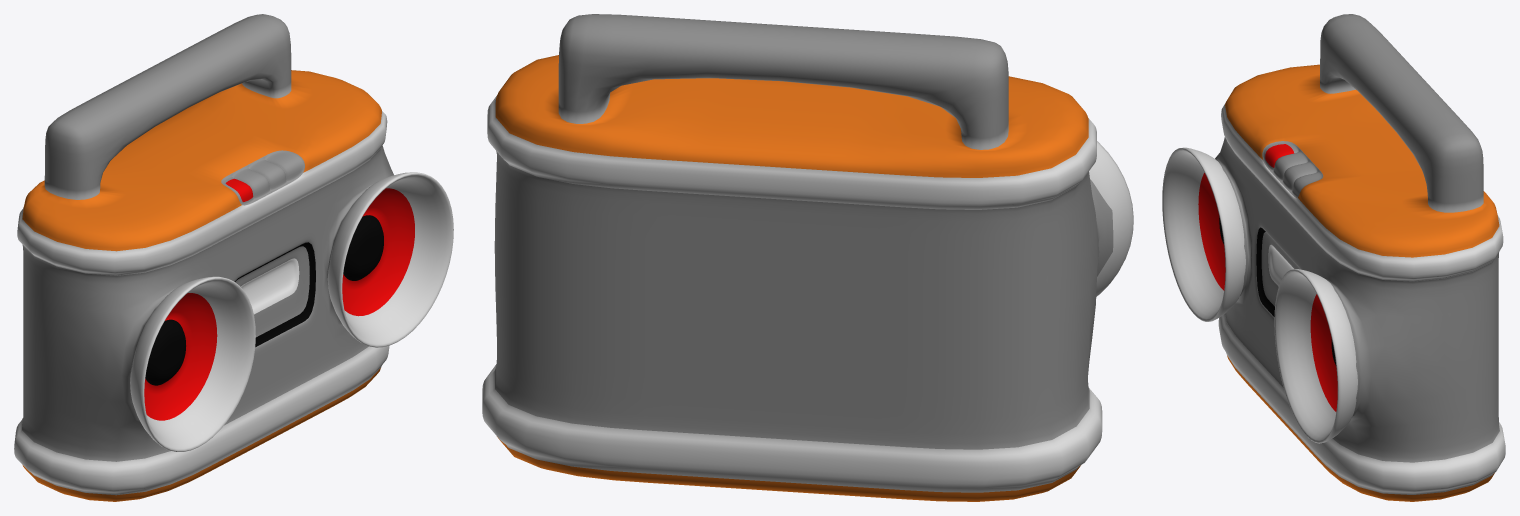
Rendered from speaker.glb.
3 views of the same model, side by side, from view 1: azimuth 30°, elevation 25°; view 2: azimuth 150°, elevation 25°; view 3: azimuth 270°, elevation 25° (orthographic). The views are drawn at different scales.
Visible parts, largest first — view 1: speaker; view 2: speaker; view 3: speaker.
Boxes of the visible parts, x1,y1,x2,y2 form: speaker: (14,14,453,501); speaker: (482,14,1133,501); speaker: (1162,14,1505,501).
Bounding box in the file's own units: 0.5924 × 0.4477 × 0.4094.
